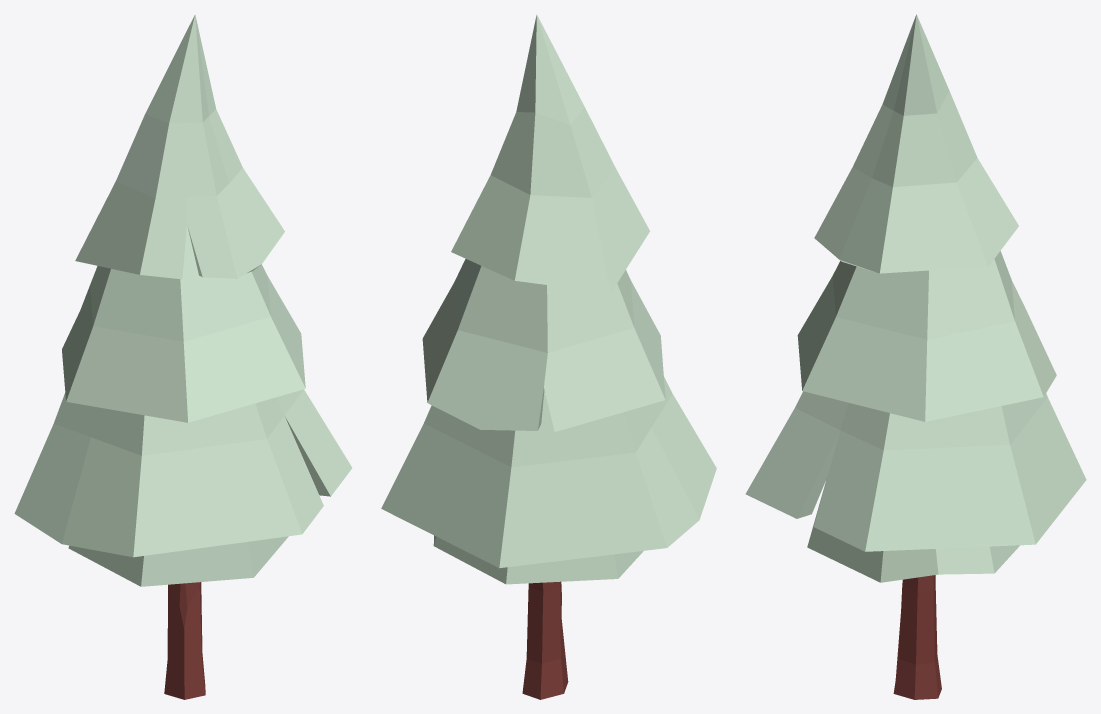
File: Spruce_M_flat.glb
3 renders of one model, left to right at view 1: azimuth 30°, elevation 25°; view 2: azimuth 150°, elevation 25°; view 3: azimuth 270°, elevation 25°, orthographic.
Visible parts, largest first — view 1: Spruce middle f; view 2: Spruce middle f; view 3: Spruce middle f.
Boxes of the visible parts, <box> form: Spruce middle f: <box>14,14,352,699</box>; Spruce middle f: <box>381,14,716,699</box>; Spruce middle f: <box>745,14,1086,699</box>.
Bounding box in the file's own units: 5.64 × 12.64 × 5.72.
